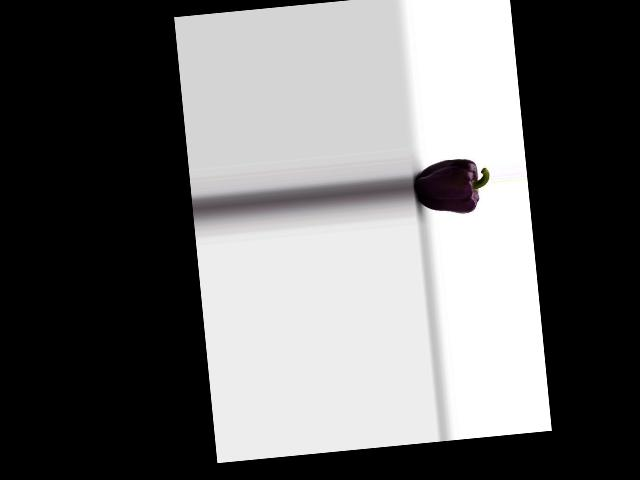bell_pepper: (413, 150, 492, 222)
